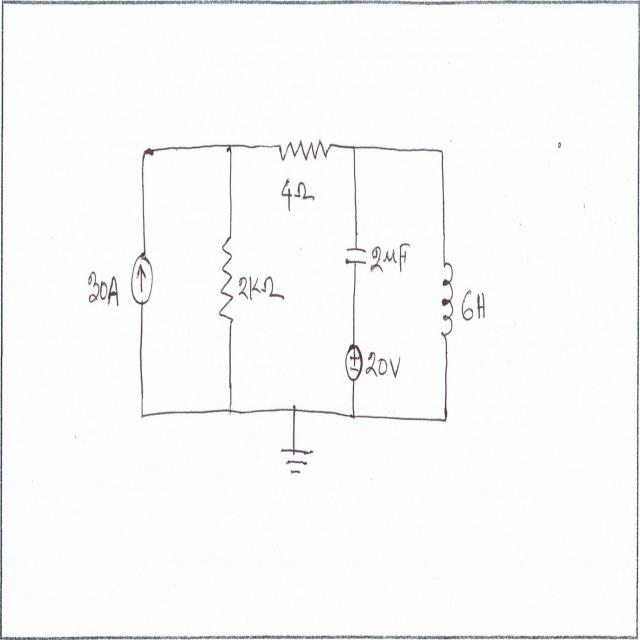capacitor: (346, 242, 368, 273)
current_source: (130, 248, 154, 310)
ground: (276, 440, 318, 480)
inductor: (437, 258, 456, 344)
resistor: (278, 132, 332, 170), (218, 235, 236, 329)
voltage_source: (344, 343, 364, 386)
